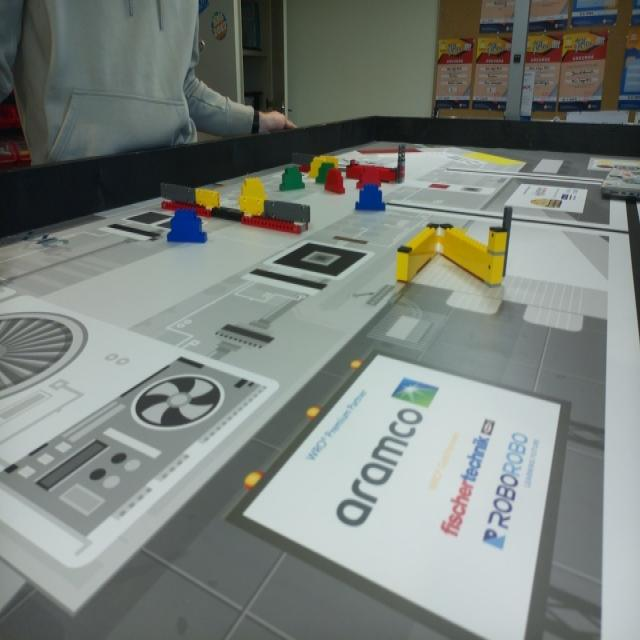blau: (168, 213, 204, 245), (352, 184, 387, 212)
gruen: (280, 166, 303, 192), (317, 163, 333, 182)
rot: (324, 171, 344, 195), (357, 167, 381, 186)
yellow: (242, 177, 266, 197), (310, 158, 320, 177)
